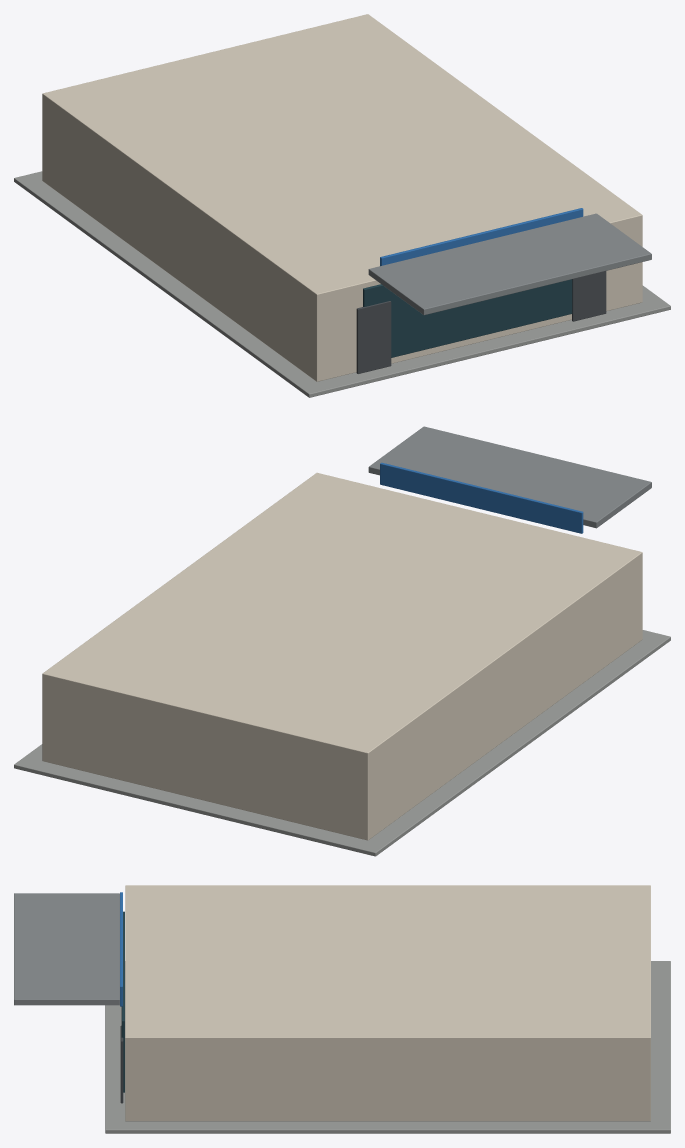
File: Building_Commercial_005.glb
3 views of the same model, one above another, from view 1: azimuth 30°, elevation 25°; view 2: azimuth 150°, elevation 25°; view 3: azimuth 270°, elevation 25° (orthographic). The views are drawn at different scales.
Parts seen in each view (by area): view 1: Building_Commercial_005; view 2: Building_Commercial_005; view 3: Building_Commercial_005.
Part boxes in pixels (x1=…): Building_Commercial_005: x1=14, y1=14, x2=670, y2=397; Building_Commercial_005: x1=14, y1=426, x2=670, y2=856; Building_Commercial_005: x1=14, y1=885, x2=670, y2=1133.
Bounding box in the file's own units: 15.1 × 4.59 × 24.81.
